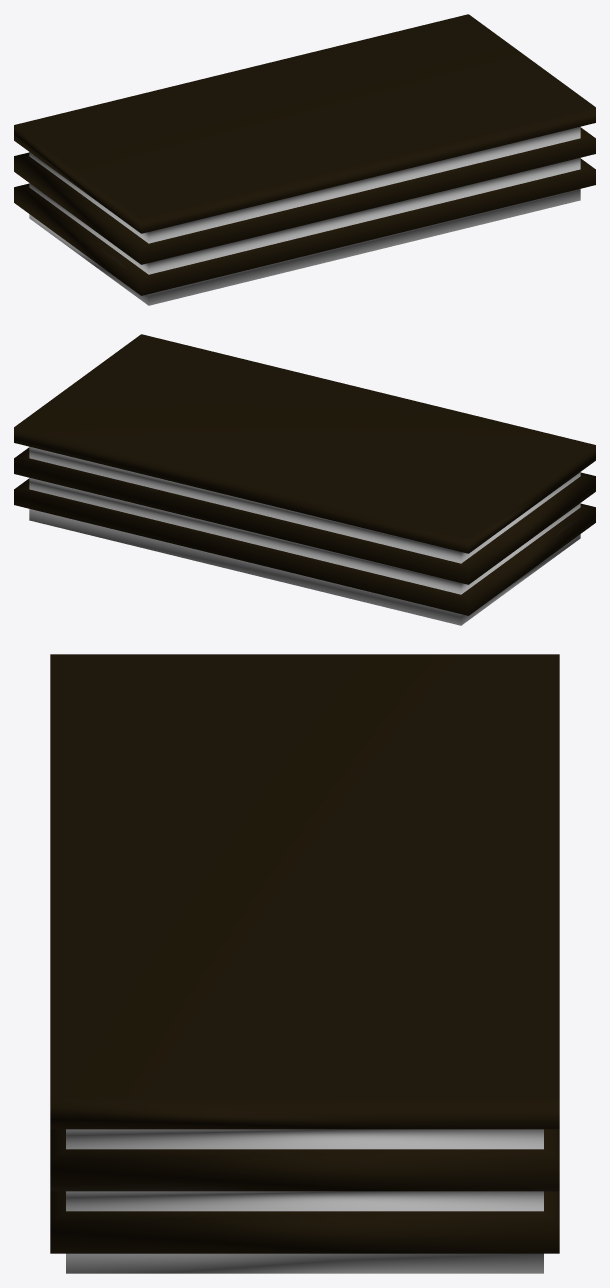
The model's file is Square_Desk.fbx.
The picture shows the model from 3 angles, top to bottom: view 1: azimuth 30°, elevation 25°; view 2: azimuth 150°, elevation 25°; view 3: azimuth 270°, elevation 25°; orthographic projection. The views are drawn at different scales.
Parts seen in each view (by area): view 1: polySurface54; view 2: polySurface54; view 3: polySurface54.
Boxes of the visible parts, x1,y1,x2,y2 form: polySurface54: (14,14,595,305); polySurface54: (14,334,595,625); polySurface54: (50,654,559,1273).
Bounding box in the file's own units: 1312 × 257 × 637.
1 material, 1 textured.
